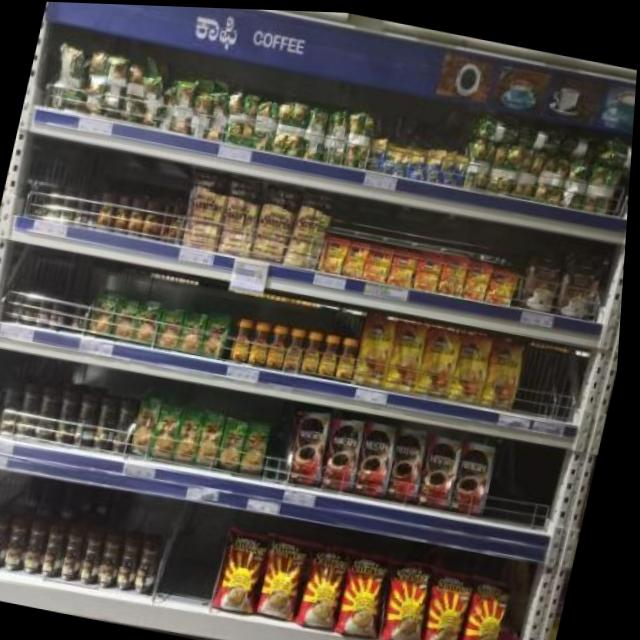Coffee: (360, 418, 407, 495), (390, 425, 436, 500), (356, 313, 402, 386), (292, 410, 338, 483), (421, 323, 467, 395), (389, 318, 435, 390), (457, 440, 503, 512), (424, 433, 469, 504), (453, 330, 499, 399), (487, 335, 531, 406), (329, 416, 371, 487), (441, 254, 471, 295), (322, 233, 352, 274), (466, 257, 495, 297), (340, 334, 365, 378), (271, 322, 296, 366), (391, 248, 421, 284), (306, 329, 330, 374), (253, 320, 277, 365), (418, 252, 446, 290), (289, 325, 313, 369), (489, 267, 519, 302), (345, 239, 373, 276), (322, 333, 347, 374), (367, 243, 395, 279), (234, 318, 258, 359)
